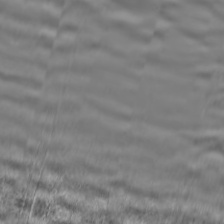cavities: (43, 85, 194, 163)
